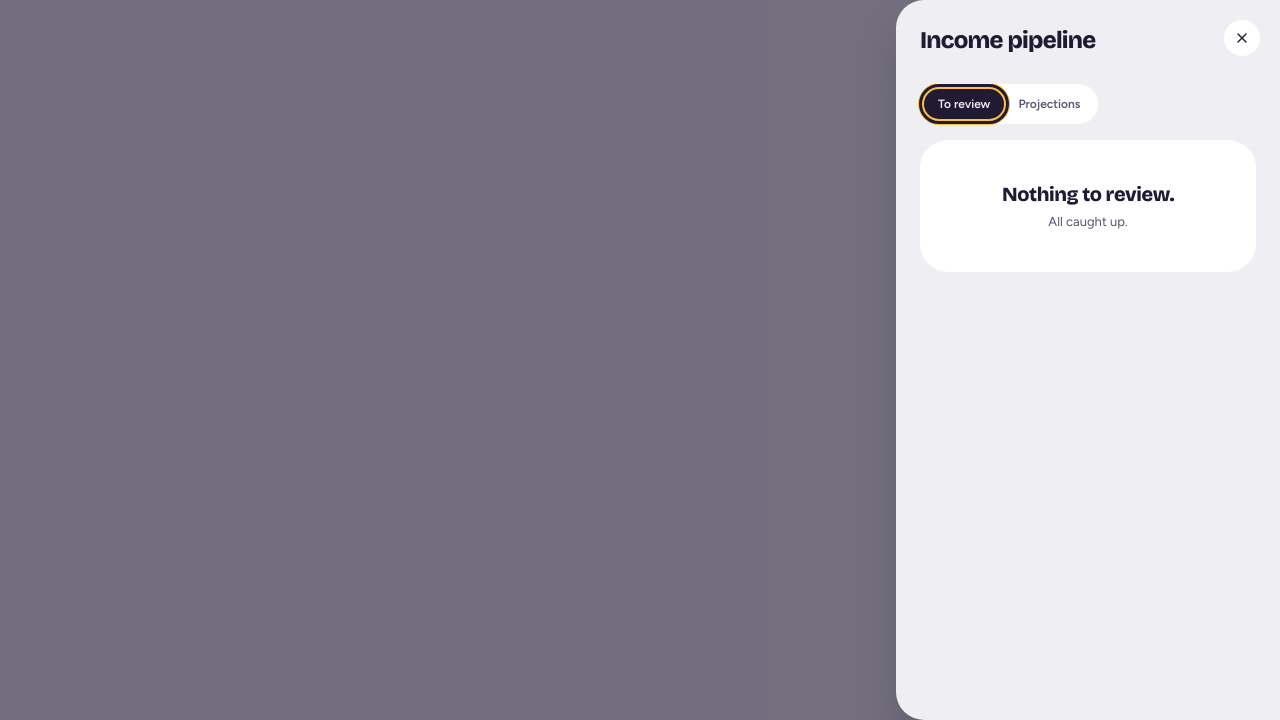
projections manager › renders the projections empty state (D5)
Press the mouse on the tab "Projections" at (1049, 104), box [1004, 89, 1094, 119]
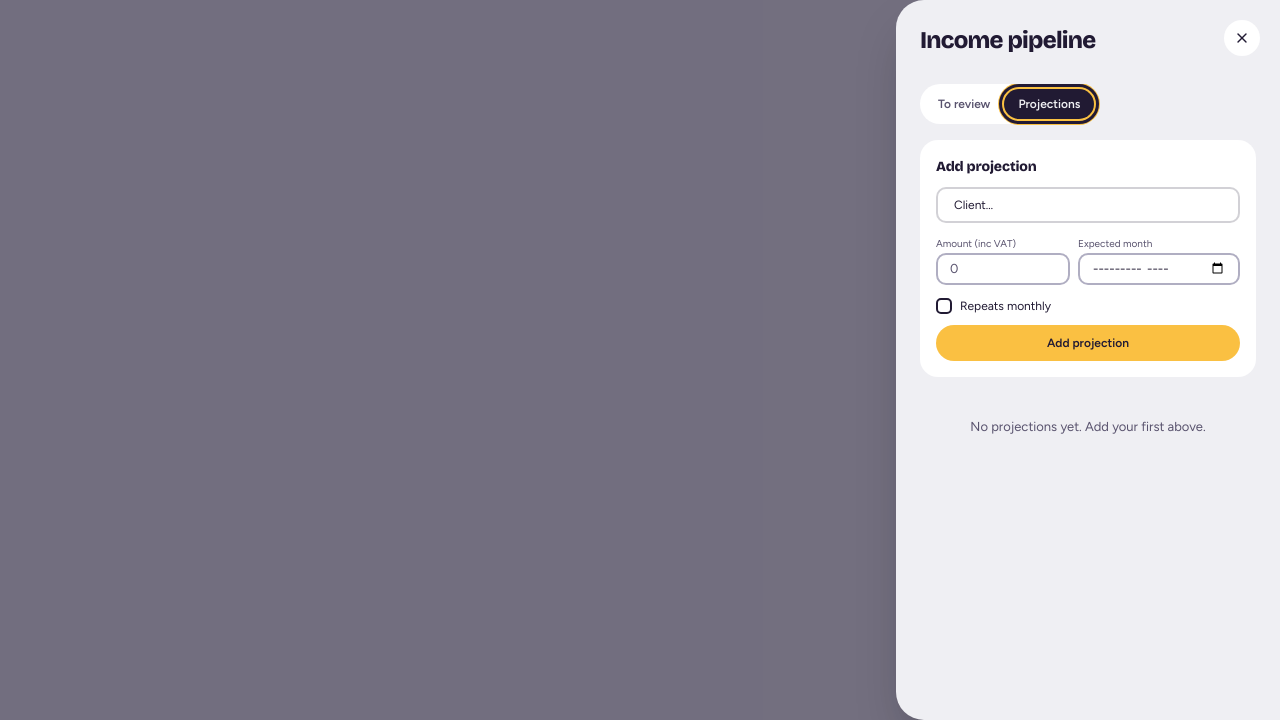
Expected: the text "No projections yet. Add your first above." is shown, [970, 418, 1206, 434]
